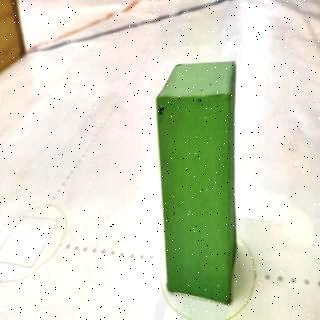greenbox: (154, 61, 238, 306)
